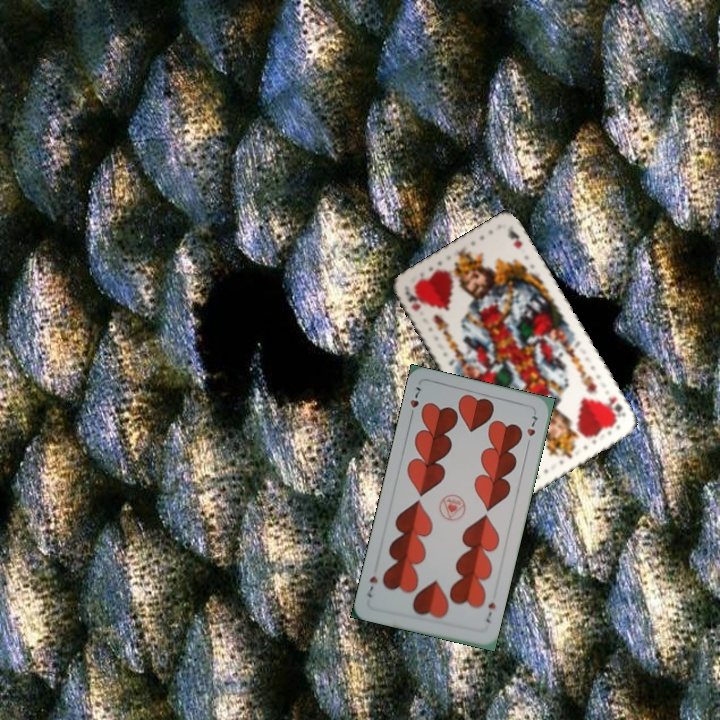H7: (406, 382, 423, 421), (482, 598, 498, 625)
HK: (602, 392, 628, 424), (401, 287, 423, 314)
